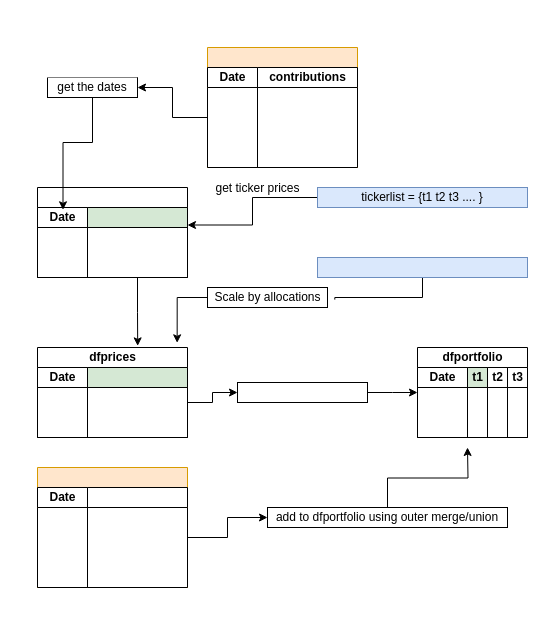
The diagram is 554 pixels wide and 634 high, and some of its shapes have lost their labels. Each missing label, with the box of its shape:
add as a single column: (236, 382, 368, 402)
allocations = {f1 f2 f3 .... }: (316, 256, 528, 278)
dfcontrib: (206, 46, 358, 168)
dfdividends: (36, 466, 188, 588)
dfticker: (36, 186, 188, 278)
dividends: (86, 486, 188, 588)
price: (86, 206, 188, 278)
t1 = price*f1: (86, 366, 188, 438)
